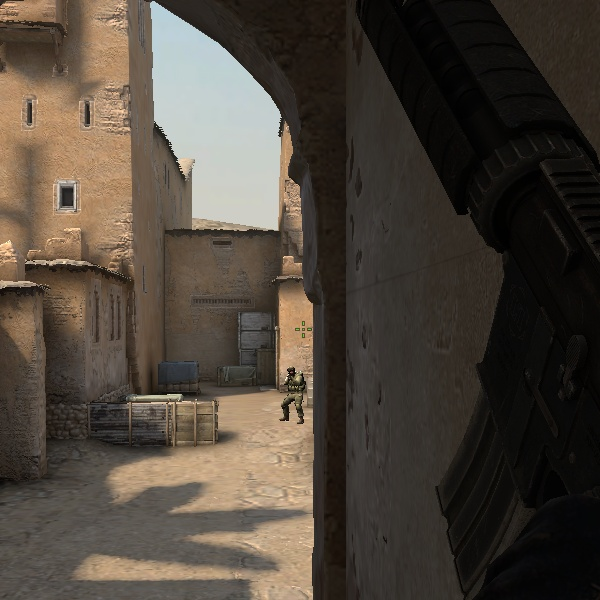ct_body: (274, 363, 307, 424)
ct_head: (283, 364, 300, 380)
